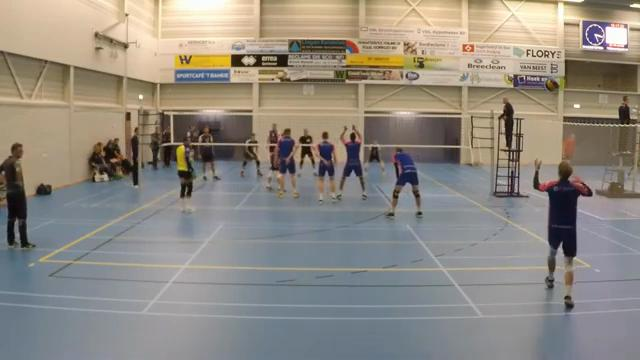Player: (387, 147, 422, 217), (337, 125, 366, 199), (276, 128, 298, 197), (315, 131, 336, 202), (176, 136, 194, 212), (197, 126, 219, 179), (241, 134, 262, 176), (266, 123, 278, 190), (298, 129, 314, 176), (365, 140, 384, 175)
Serve: (530, 154, 599, 303)
ball: (546, 78, 561, 93)
